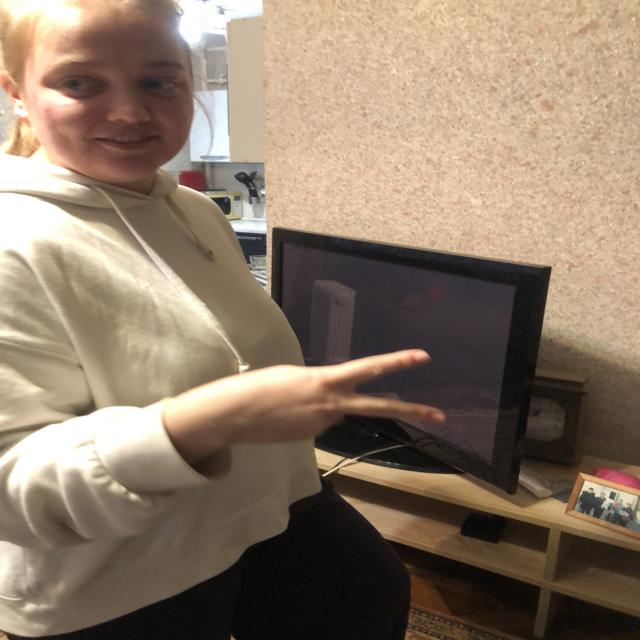scissors: (260, 350, 447, 450)
